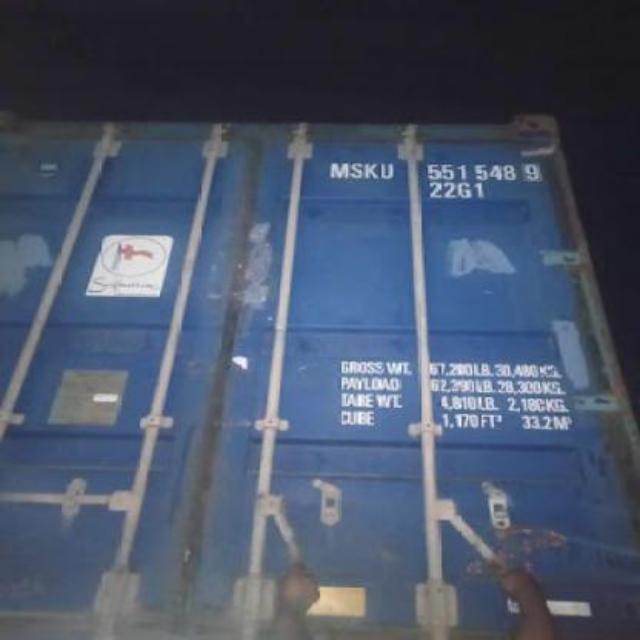1: (456, 164, 469, 180)
4: (491, 164, 504, 180)
5: (426, 164, 442, 180), (474, 164, 490, 180), (442, 164, 456, 180)
8: (502, 163, 518, 181)
9: (524, 164, 540, 180)
K: (362, 163, 380, 179)
M: (328, 163, 349, 179)
S: (348, 163, 364, 179)
U: (380, 160, 396, 182)
